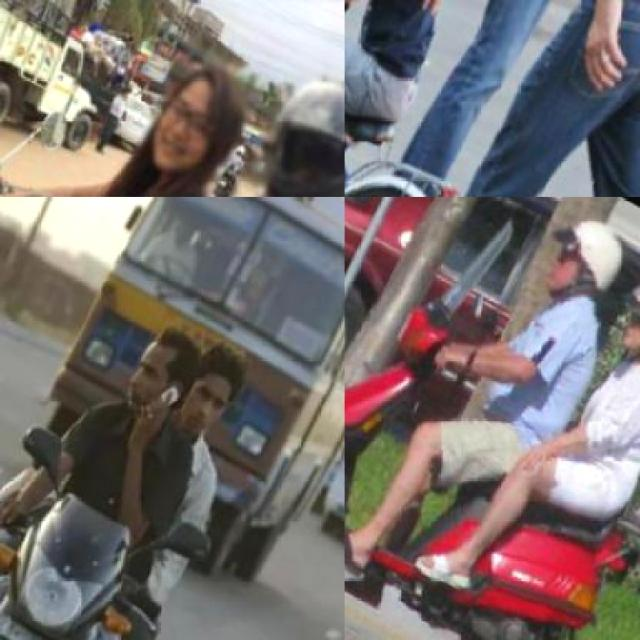With Helmet: (208, 34, 343, 195), (512, 197, 638, 323), (597, 257, 638, 374)
Without Helmet: (117, 28, 278, 195), (102, 307, 221, 438), (154, 326, 261, 451)
